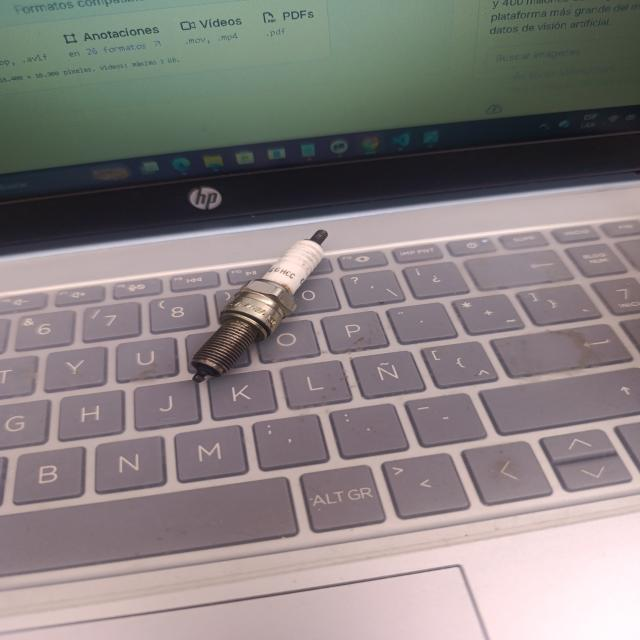bujia: (191, 230, 328, 382)
